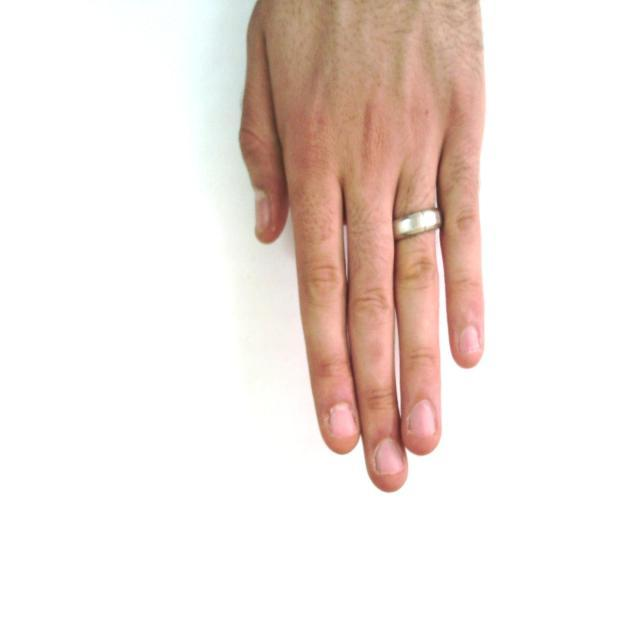Fingernail: (408, 400, 436, 437), (376, 440, 404, 475), (253, 189, 271, 238), (330, 405, 358, 436), (459, 326, 480, 352)
